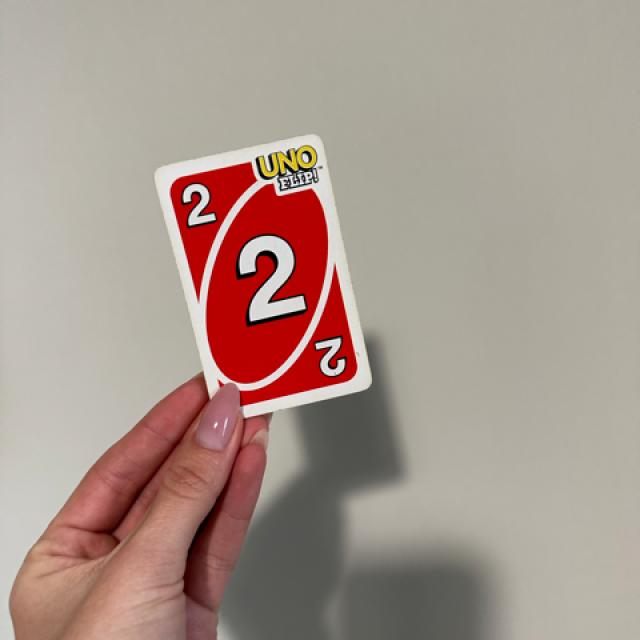lred-2: (172, 172, 229, 237)
